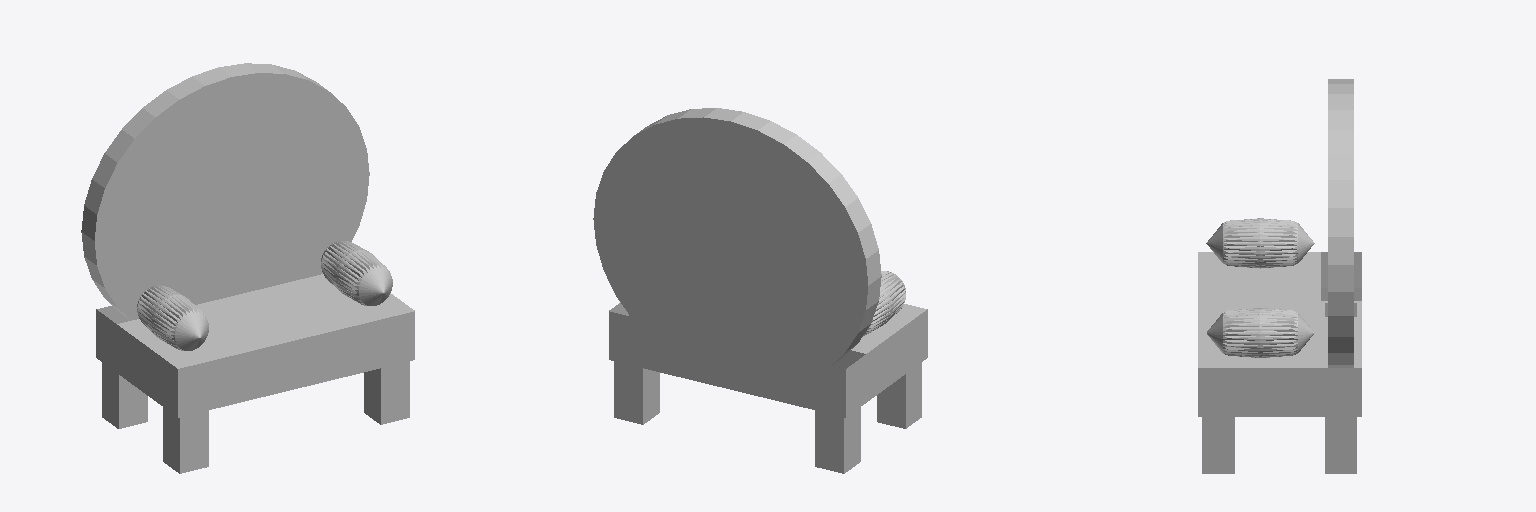
Rendered from krishnaChair.obj.
3 views of the same model, side by side, from view 1: azimuth 30°, elevation 25°; view 2: azimuth 150°, elevation 25°; view 3: azimuth 270°, elevation 25° (orthographic).
Parts seen in each view (by area): view 1: Cylinder.006, Cube_Cube.001, Cylinder.001, Cylinder.009; view 2: Cylinder.006, Cube_Cube.001, Cylinder.009; view 3: Cube_Cube.001, Cylinder.006, Cylinder.001, Cylinder.009.
Part boxes in pixels (x1,y1,x2,y2): Cylinder.006: (81,63,369,320); Cube_Cube.001: (96,274,414,473); Cylinder.001: (321,241,392,305); Cylinder.009: (137,285,208,350); Cylinder.006: (593,108,881,365); Cube_Cube.001: (609,302,927,473); Cylinder.009: (863,271,905,335); Cube_Cube.001: (1198,252,1361,473); Cylinder.006: (1328,79,1353,367); Cylinder.001: (1207,308,1313,357); Cylinder.009: (1206,218,1314,268).
Bounding box in the file's own units: 3.89 × 4.37 × 2.